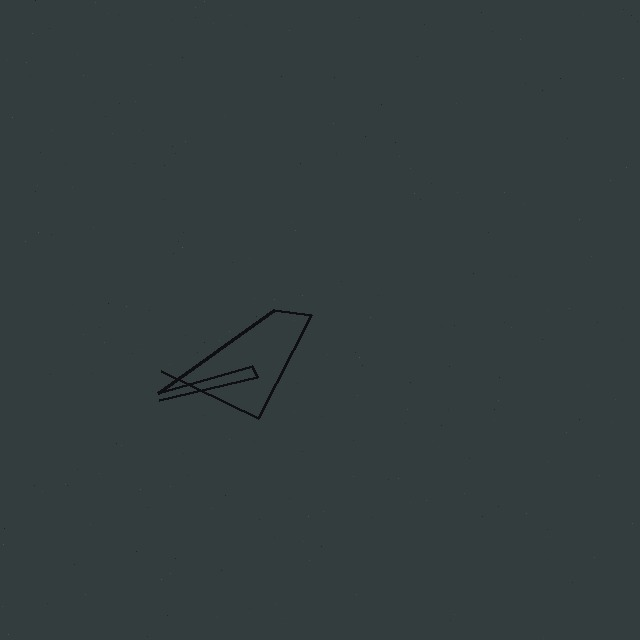crocodile_crack: (157, 288, 322, 425)
